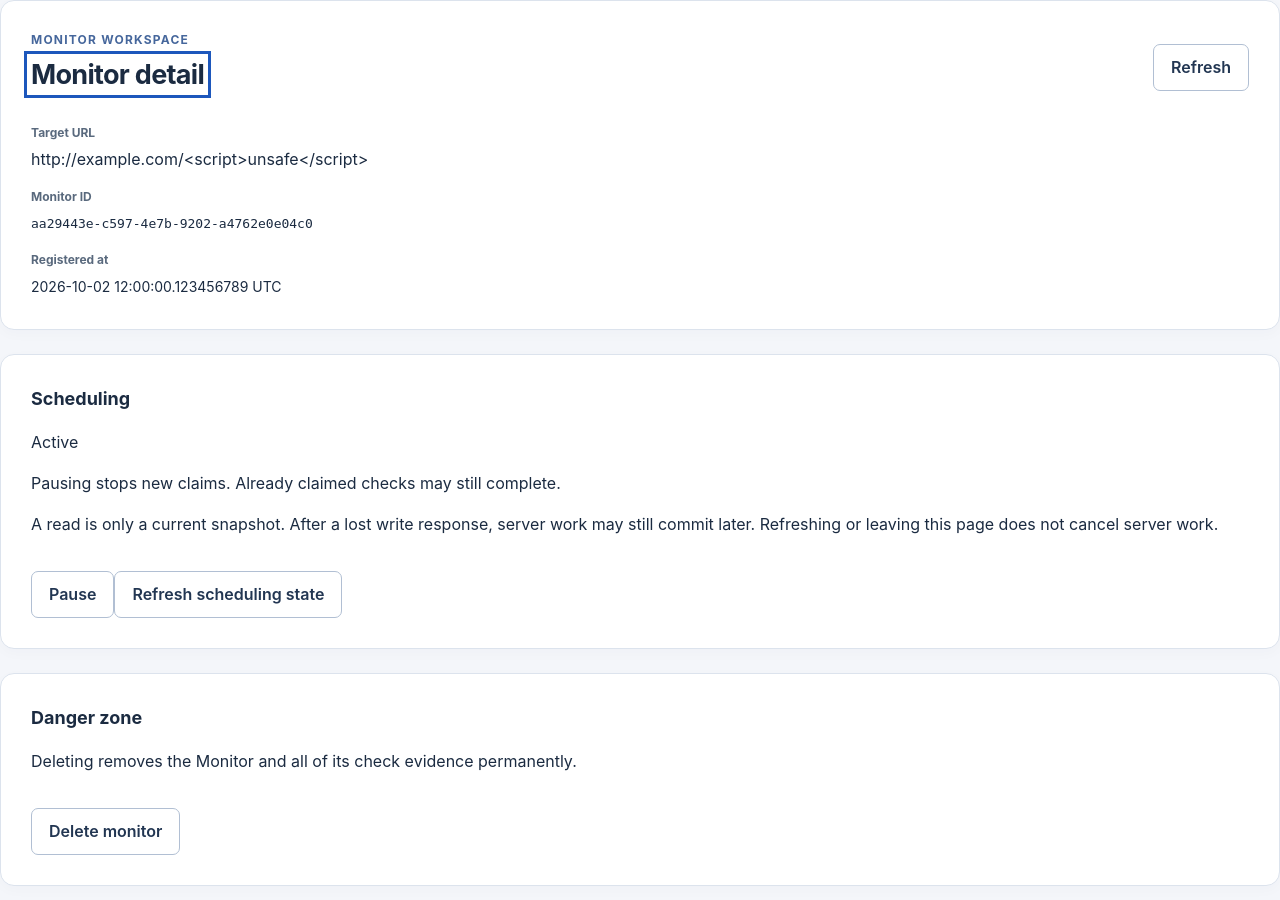
Test: a current Monitor404 removes previously successful snapshots after refresh
The width and height of the screenshot is (1280, 900).
Click the button named "Refresh monitor" at [1201, 68], box [1153,44,1249,91]
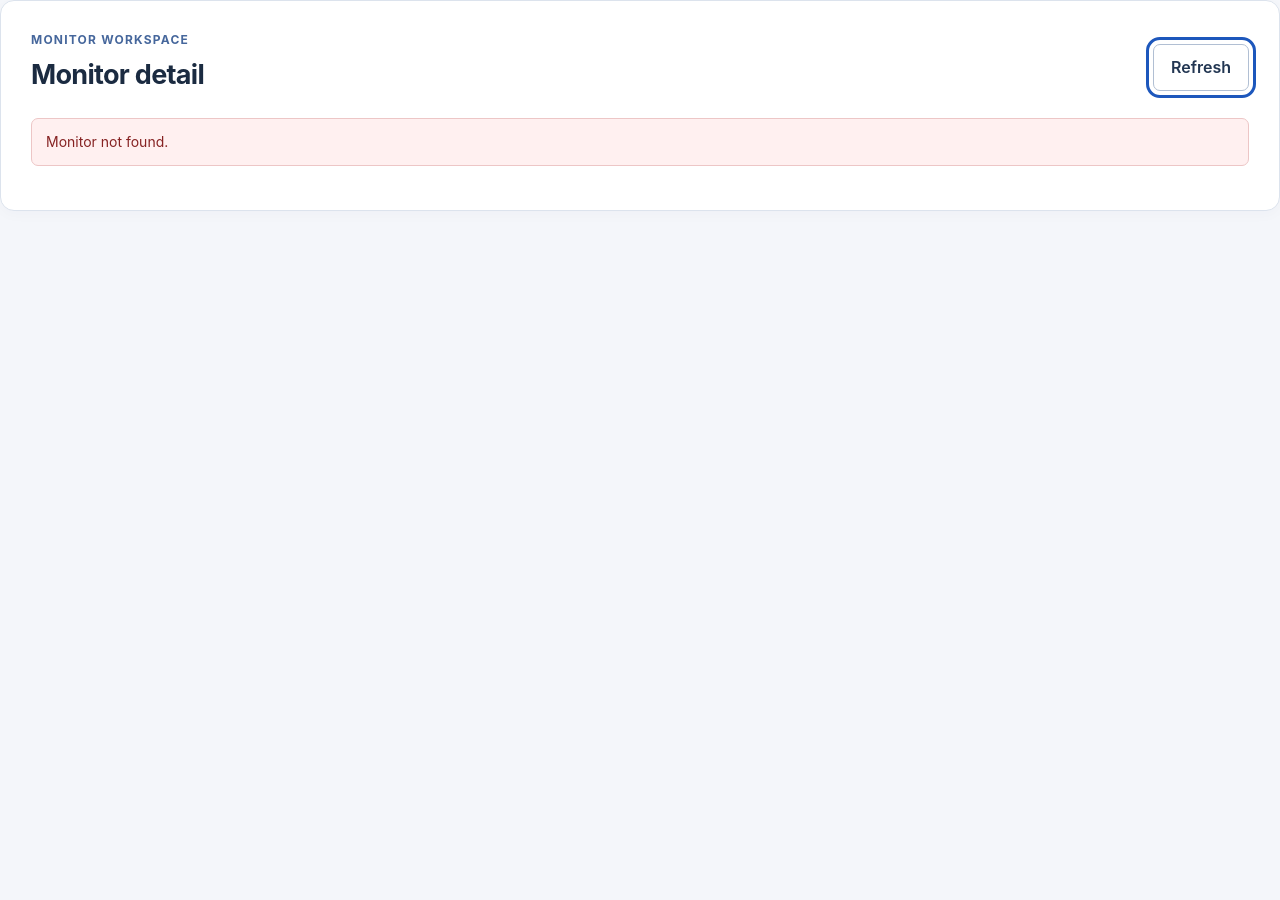
Check: the message reads "Monitor not found.", box [46,133,168,150]
